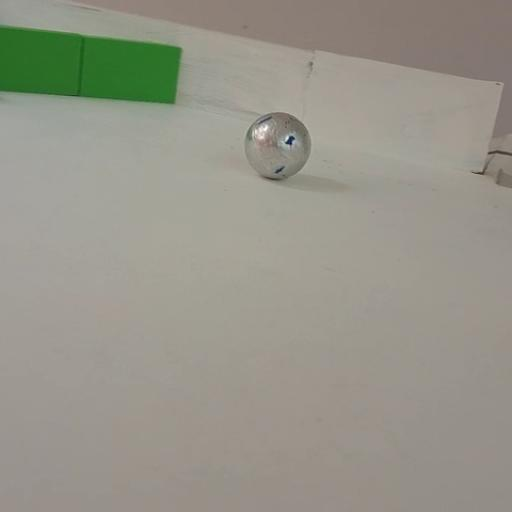alive: (241, 110, 314, 183)
